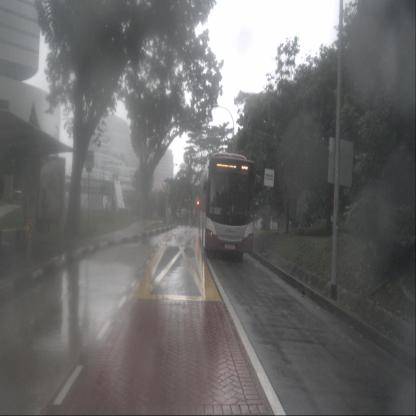vehicle-bus-rigid: (198, 153, 255, 260)
